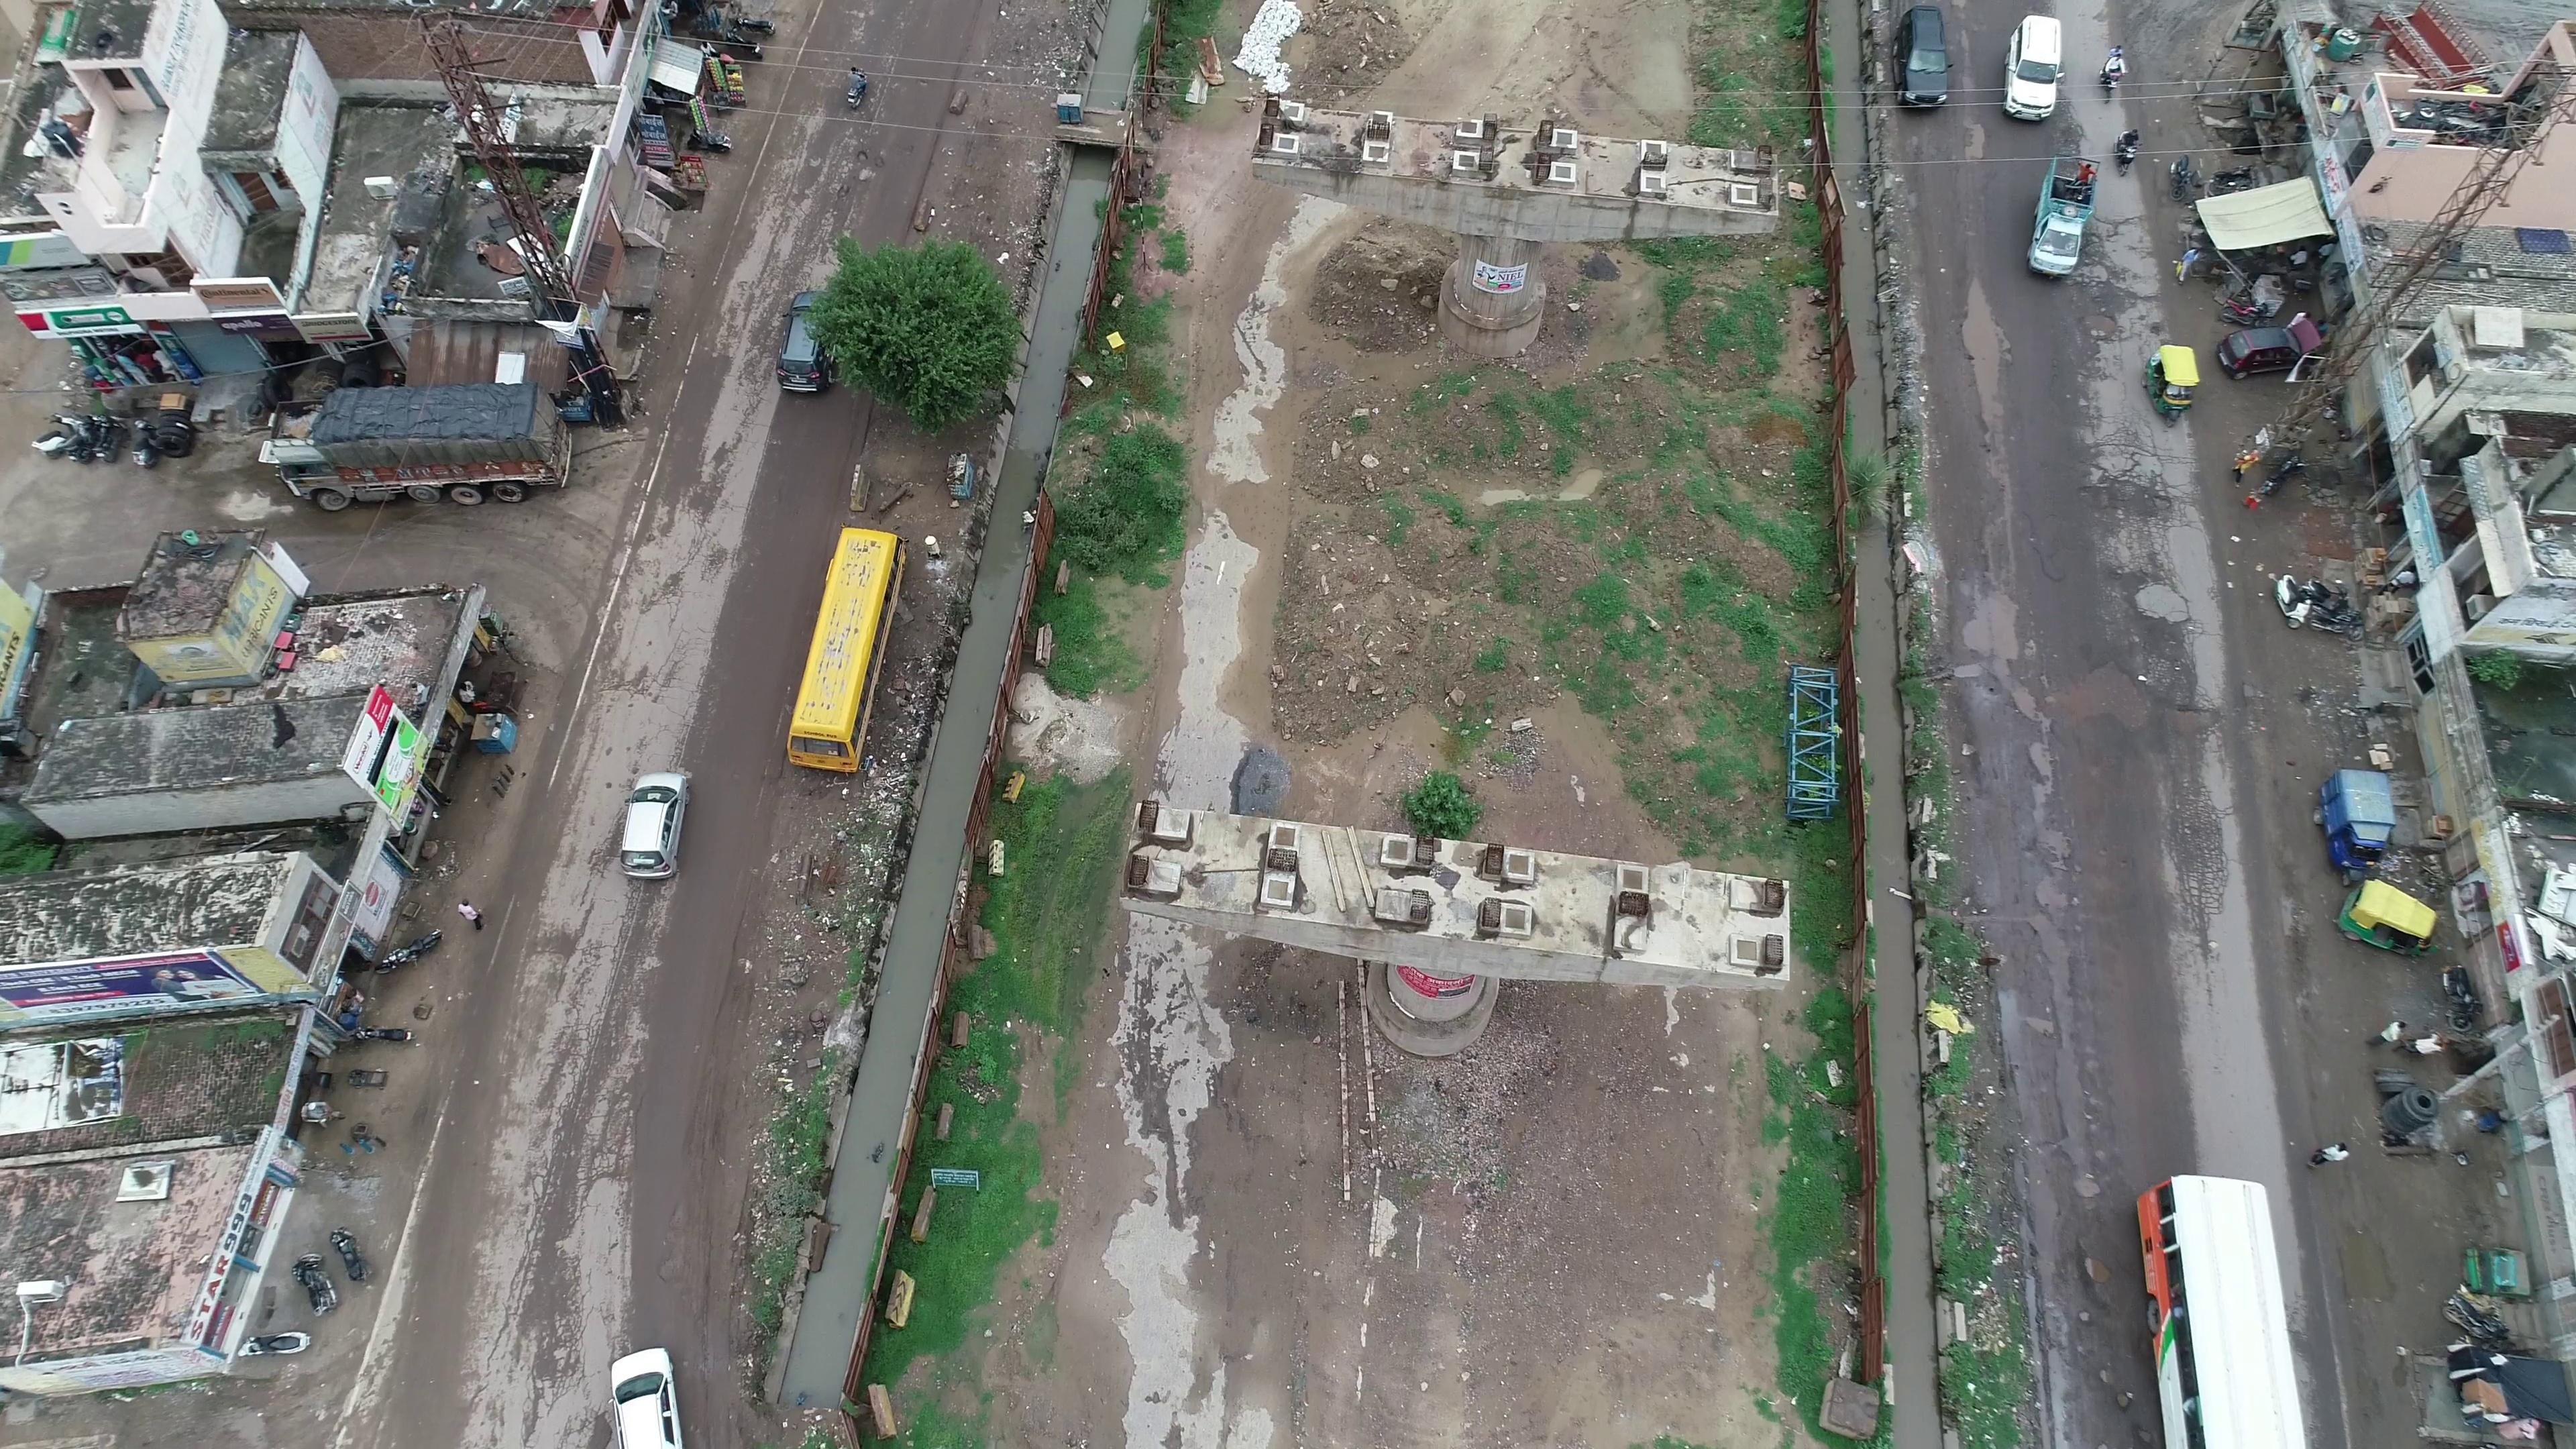Alligator_cracks: (534, 932, 640, 1200), (2098, 464, 2190, 633), (2157, 780, 2238, 927)
Potholes: (2045, 280, 2141, 368), (816, 131, 886, 207)
